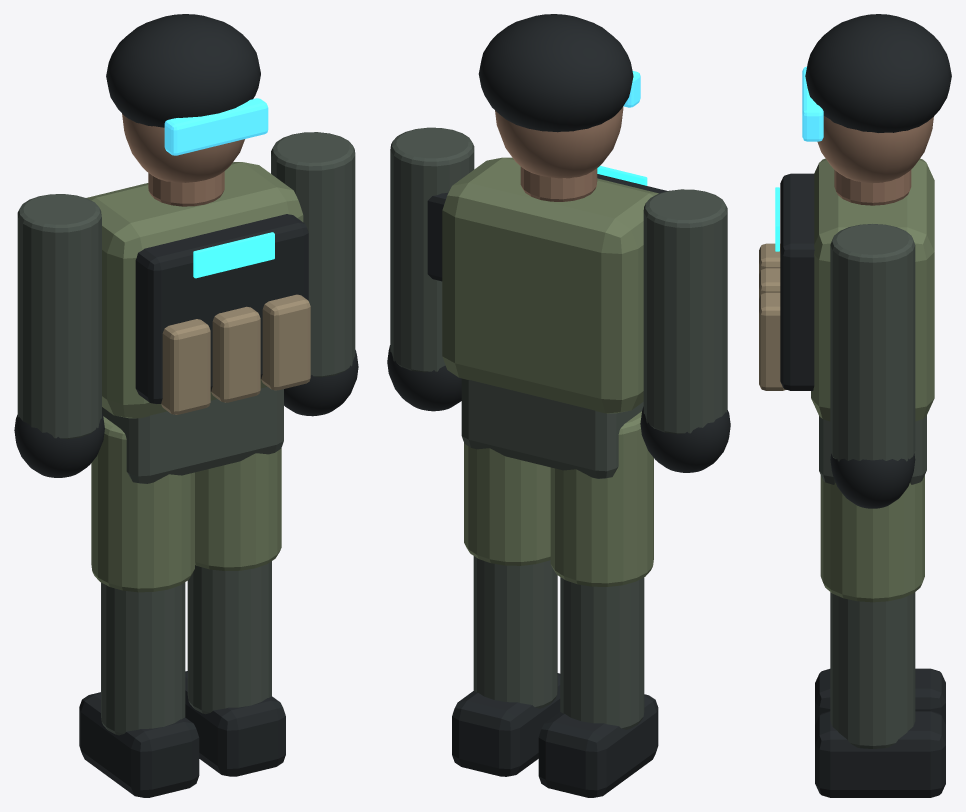
Rendered from tactical_operator.glb.
3 views of the same model, side by side, from view 1: azimuth 30°, elevation 25°; view 2: azimuth 150°, elevation 25°; view 3: azimuth 270°, elevation 25° (orthographic).
Visible parts, largest first — view 1: Arm L, Armored torso, Plate carrier, Helmet, Arm R, Upper leg L, Lower leg L, Lower leg R, Pelvis, Upper leg R, Boot L, Boot R (+9 smaller); view 2: Armored torso, Arm L, Helmet, Arm R, Upper leg L, Lower leg L, Lower leg R, Pelvis, Upper leg R, Boot L, Boot R, Head (+4 smaller); view 3: Arm R, Helmet, Lower leg R, Armored torso, Upper leg R, Boot R, Plate carrier, Head, Glove R, Magazine pouch.002, Boot L, Neck (+4 smaller).
Boxes of the visible parts, x1,y1,x2,y2 form: Arm L: (17, 194, 101, 439); Armored torso: (86, 162, 303, 418); Plate carrier: (135, 214, 308, 403); Helmet: (106, 14, 260, 127); Arm R: (271, 132, 355, 377); Upper leg L: (91, 416, 194, 592); Lower leg L: (101, 582, 185, 735); Lower leg R: (187, 561, 271, 714); Pelvis: (102, 387, 283, 483); Upper leg R: (195, 448, 281, 570); Boot L: (79, 692, 199, 797); Boot R: (185, 671, 285, 776); Armored torso: (442, 157, 658, 413); Arm L: (643, 189, 727, 434); Helmet: (478, 14, 633, 132); Arm R: (390, 127, 474, 372); Upper leg L: (550, 411, 653, 586); Lower leg L: (560, 577, 644, 729); Lower leg R: (473, 556, 557, 708); Pelvis: (461, 378, 643, 478); Upper leg R: (464, 443, 550, 565); Boot L: (538, 694, 658, 797); Boot R: (452, 673, 560, 776); Head: (495, 106, 623, 178); Arm R: (830, 224, 915, 461); Helmet: (805, 14, 951, 132); Lower leg R: (830, 592, 915, 748); Armored torso: (811, 158, 934, 421); Upper leg R: (820, 475, 924, 602); Boot R: (815, 711, 945, 797); Plate carrier: (780, 173, 814, 390); Head: (817, 116, 933, 183); Glove R: (830, 453, 915, 508); Magazine pouch.002: (759, 292, 786, 390); Boot L: (815, 668, 945, 724); Neck: (834, 170, 911, 205).
Bounding box in the file's own units: 1 × 2.13 × 0.5.
